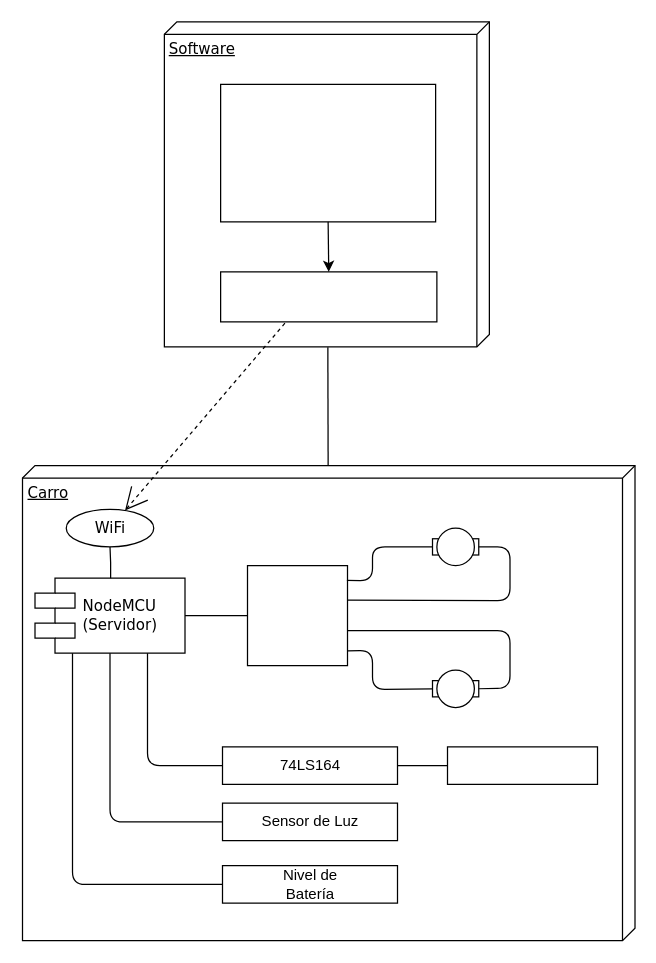
This 656x963 diagram has some shape labels left out. The shapes that lost their labels are listed below. From the top down, each one's centre as x and y in pixels, then its label:
At [327,152]: "Interfaz del Usuario (Python)".
At [328,296]: "Lógica del juego (arduino)".
At [297,615]: "L298N".
At [522,765]: "LEDs".
